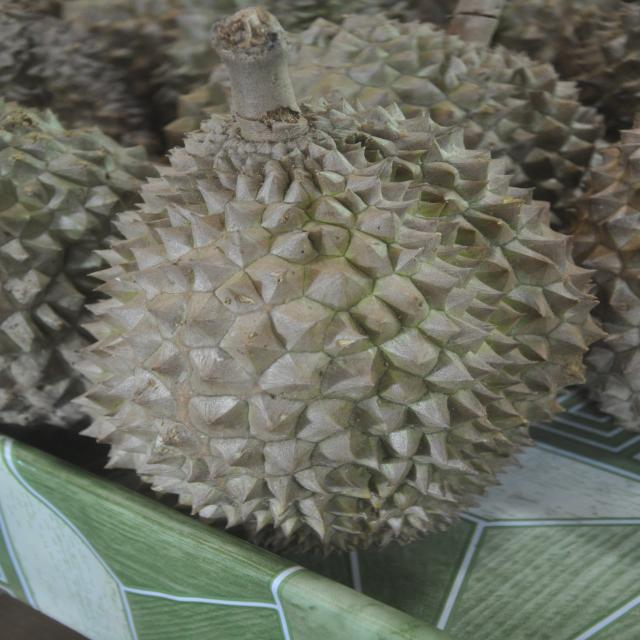mature: (88, 7, 595, 553)
